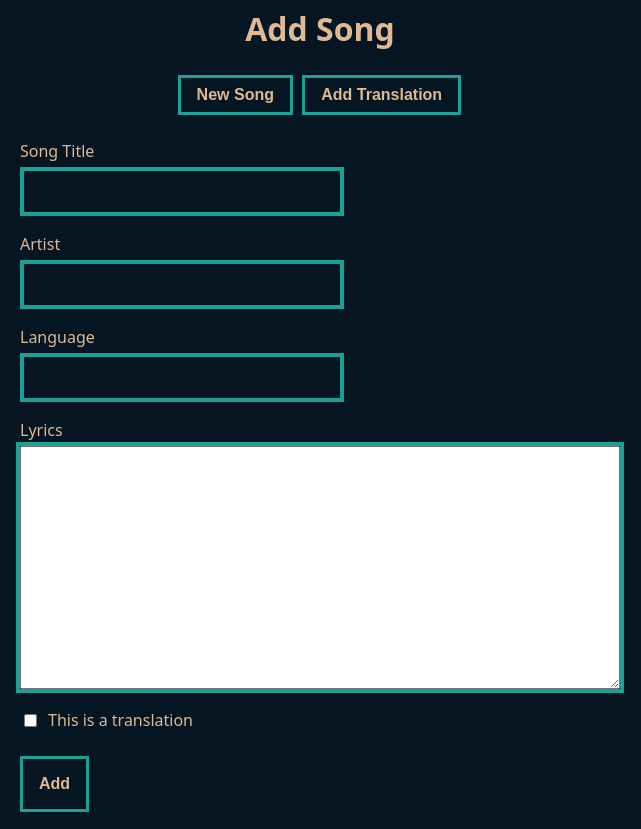
AddSong Page › switches to translation mode with song selector
Click the button "Add Translation": (382, 95) top-left (302, 75), bottom-right (461, 115)
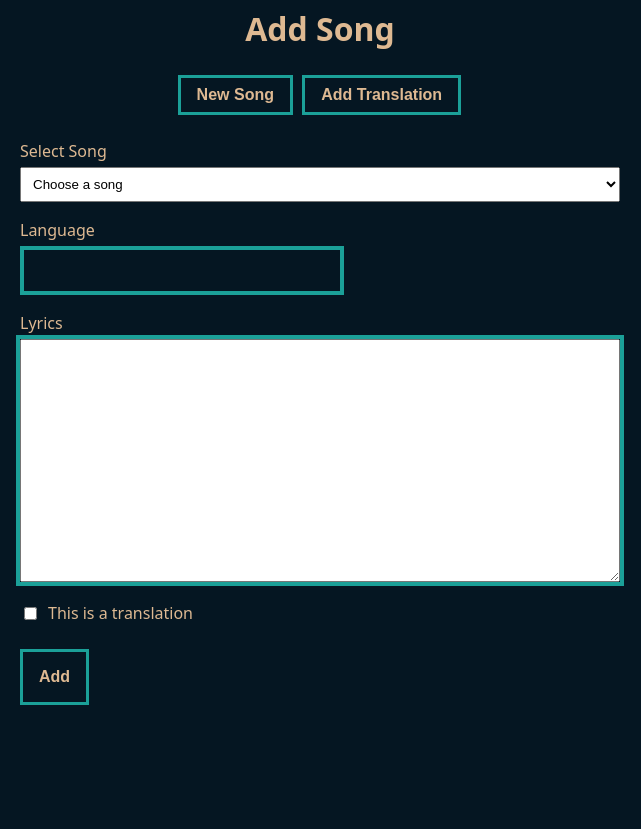
Result: the dropdown labelled "Select Song" is shown at top-left (20, 167), bottom-right (620, 202)
Result: the label labelled "Song Title" is gone
